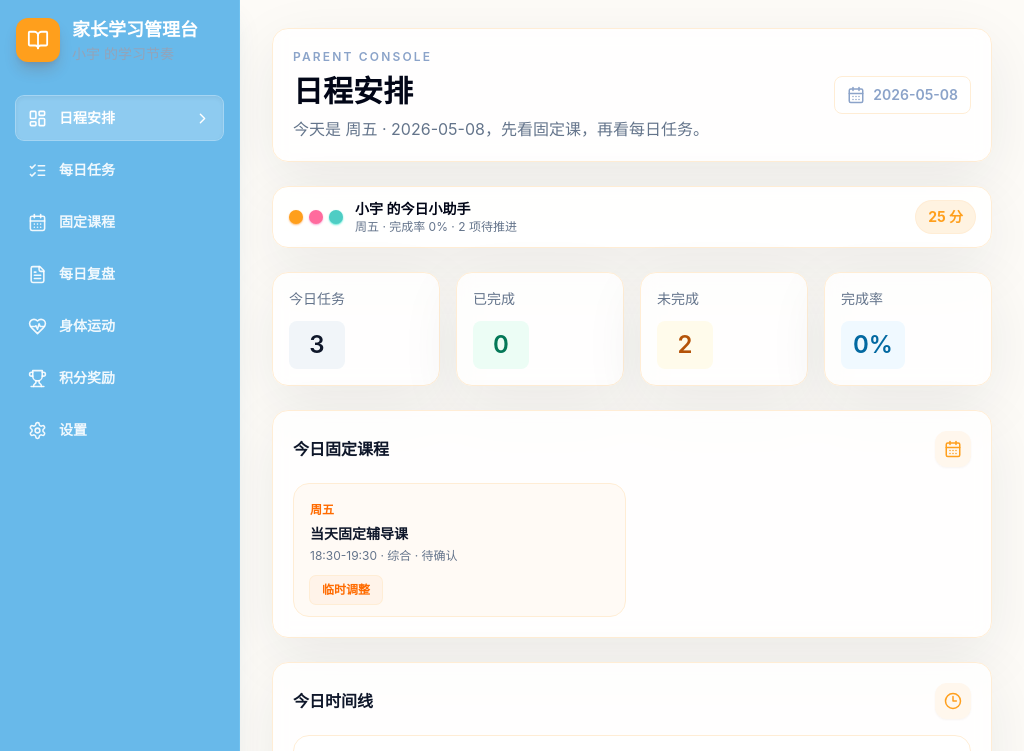
Scenario: App › adds a recurring course
Click the button "固定课程".
click(120, 222)  # box 16,200 -> 223,244
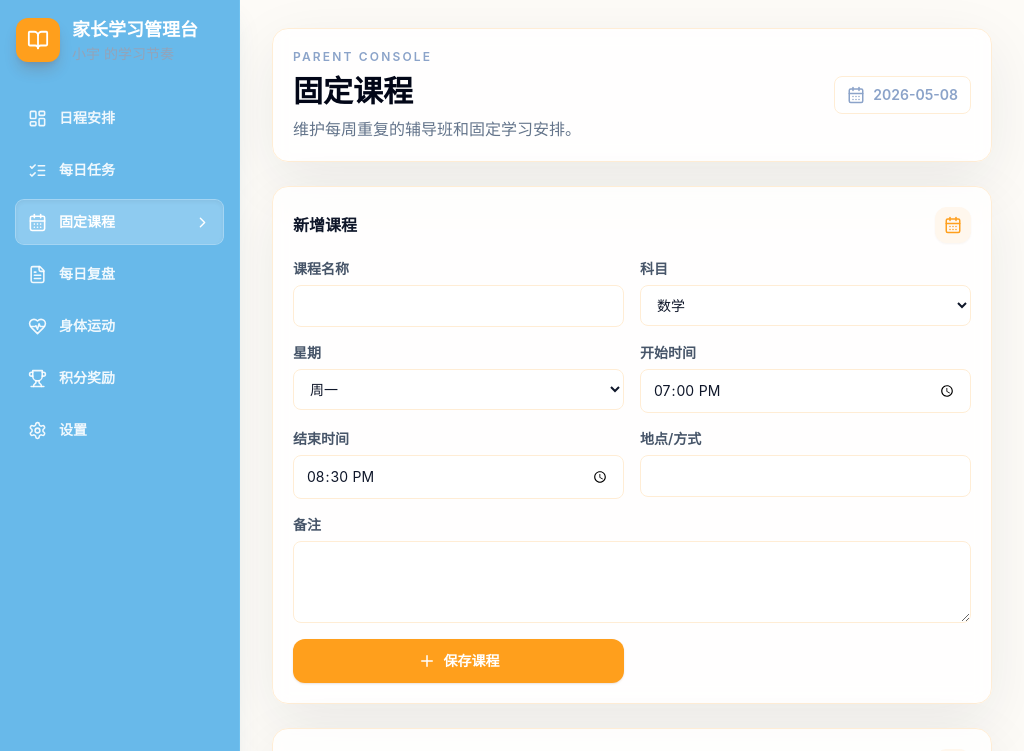
Type "科学实验课" into the field labelled "课程名称".
click(458, 306); type("科学实验课")  # box 293,285 -> 624,327
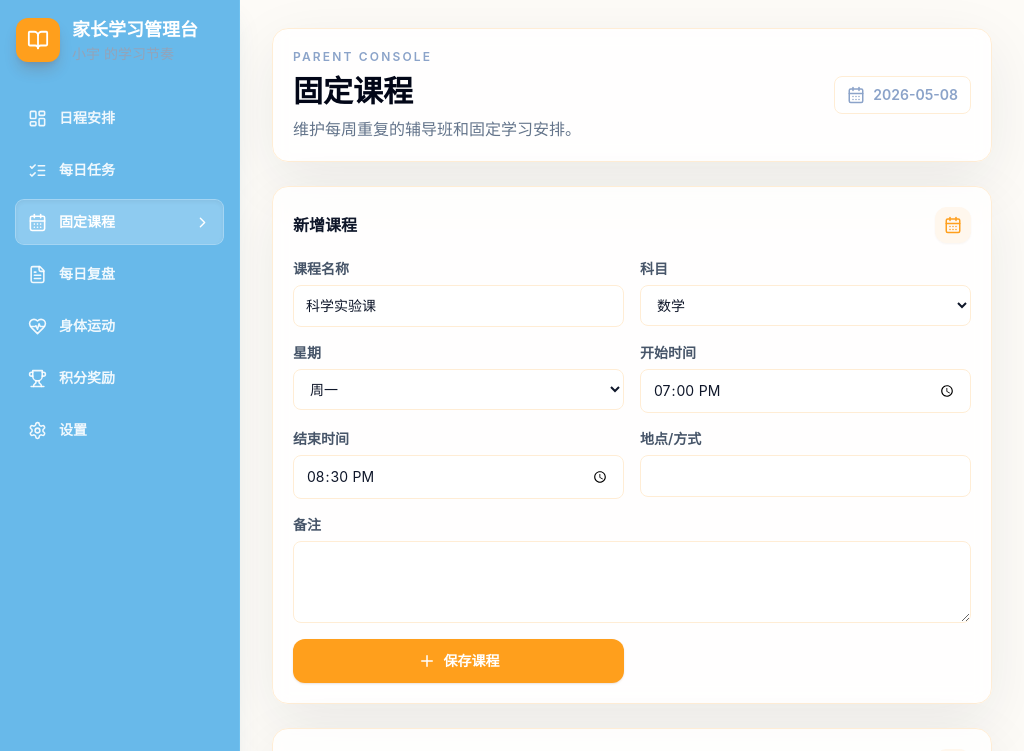
Click the button "保存课程".
click(458, 661)  # box 293,639 -> 624,683
(page scrolled)
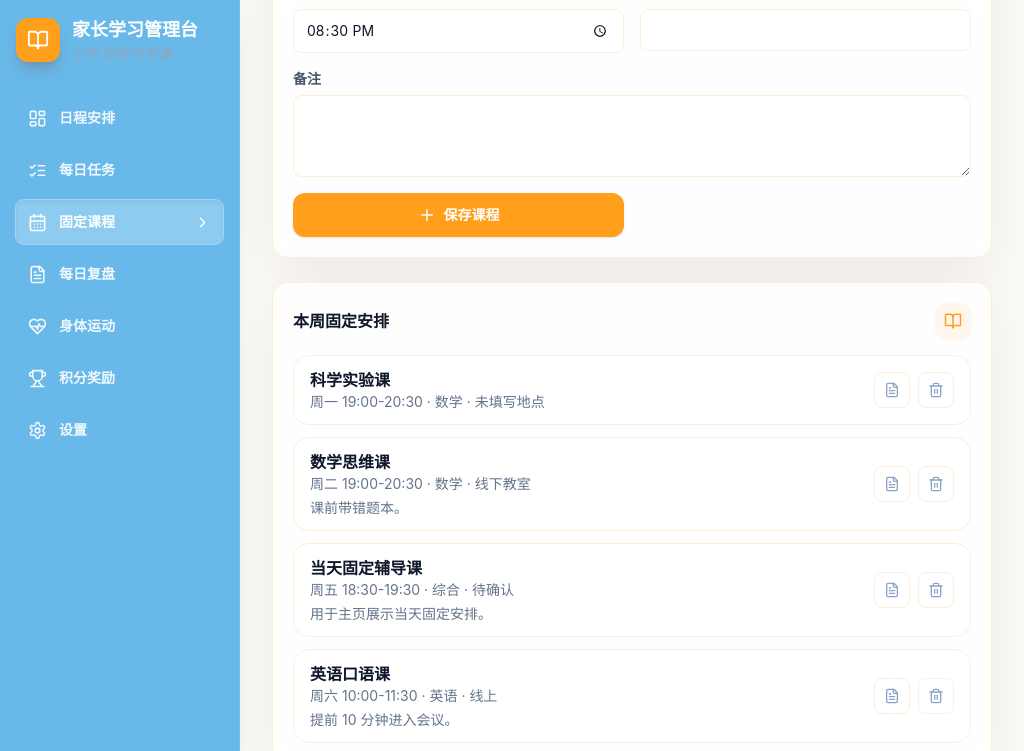
Now the text "科学实验课" is shown, box 310,370 -> 390,390
